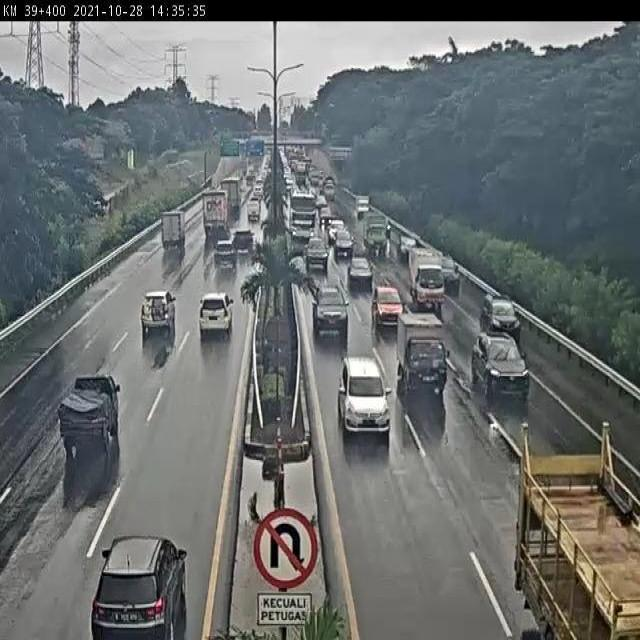big truck: (287, 187, 316, 234), (200, 191, 227, 237), (220, 178, 241, 214)
car: (89, 535, 190, 637), (58, 376, 123, 459), (394, 312, 450, 399), (341, 355, 395, 441), (472, 331, 528, 389), (196, 287, 238, 341), (140, 289, 177, 331), (314, 279, 346, 324), (485, 295, 519, 332), (373, 280, 400, 316), (211, 244, 236, 275), (348, 255, 372, 284), (302, 232, 327, 259), (232, 230, 252, 254), (436, 257, 452, 284), (244, 202, 261, 226), (331, 230, 348, 253), (354, 195, 370, 217), (400, 236, 417, 256), (325, 216, 340, 231), (252, 188, 264, 203)
small truck: (517, 449, 640, 640), (407, 244, 440, 300), (361, 212, 385, 252), (163, 213, 188, 251)
